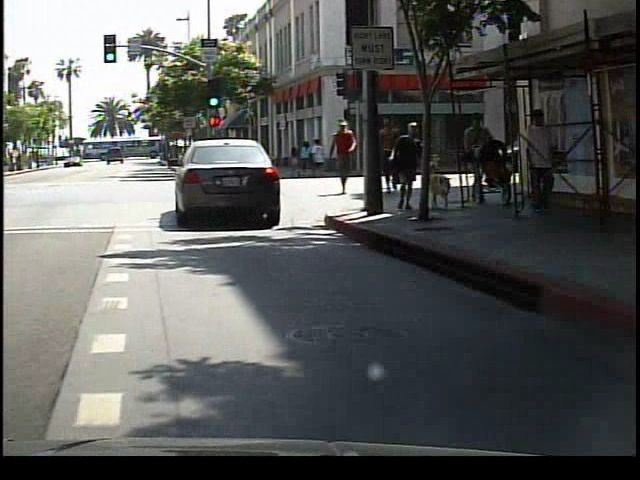person: (328, 114, 363, 199), (371, 110, 404, 199)
